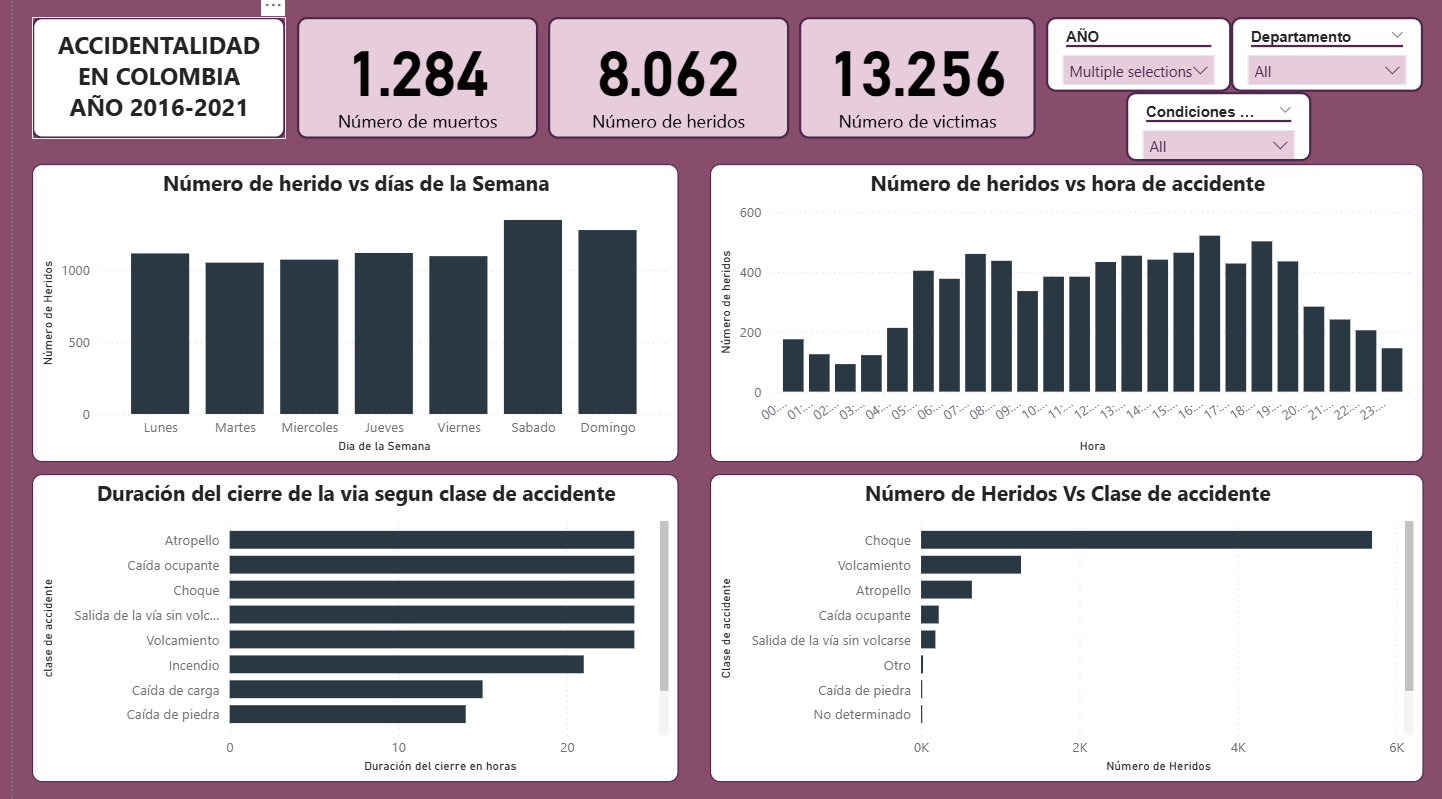

The dashboard page shown, as its layout file describes it:
{"tool":"powerbi","page":{"name":"Dashboard 1","canvas":[1280,720],"ordinal":0},"visuals":[{"type":"card","title":"Muertes Totales","fields":{"Values":["Sum(dataset_accidentes_limpio.n_muertos)"]},"box":[254.3,18.8,215.8,109.3],"z":0},{"type":"card","title":"Muertes Totales","fields":{"Values":["Sum(dataset_accidentes_limpio.n_heridos)"]},"box":[479.1,18.8,215.8,109.3],"z":1000},{"type":"card","title":"Muertes Totales","fields":{"Values":["Sum(dataset_accidentes_limpio.n_victimas)"]},"box":[703.9,18.8,212.2,109.3],"z":2000},{"type":"slicer","fields":{"Values":["dataset_accidentes_limpio.territorial"]},"box":[1090.7,18.8,171.9,67.2],"z":3000},{"type":"slicer","fields":{"Values":["dataset_accidentes_limpio.fecha_acc.Variation.Date Hierarchy.Year"]},"box":[925.1,18.8,165.7,67.2],"z":4000},{"type":"clusteredColumnChart","title":"Número de herido vs días de la Semana","fields":{"Y":["Sum(dataset_accidentes_limpio.n_heridos)"],"Category":["dataset_accidentes_limpio.dia_semana_acc"]},"box":[17,150.4,578.5,266.9],"z":5000},{"type":"textbox","title":"bffgfgfg","box":[17,18.8,227.5,109.3],"z":6000},{"type":"clusteredColumnChart","title":"Número de heridos vs hora de accidente","fields":{"Y":["Sum(dataset_accidentes_limpio.n_heridos)"],"Category":["dataset_accidentes_limpio.HoraACC"]},"box":[624.2,150.4,638.5,266.9],"z":7000},{"type":"slicer","fields":{"Values":["dataset_accidentes_limpio.condic_meteor"]},"box":[996.7,86,165.7,61.8],"z":8000},{"type":"clusteredBarChart","title":"Duración del cierre de la via segun clase de accidente","fields":{"Category":["dataset_accidentes_limpio.clase_accidente"],"Y":["Count(dataset_accidentes_limpio.duracion_cierre_horas)"]},"box":[17,428.1,578.5,275.8],"z":9000},{"type":"barChart","title":"Número de Heridos Vs Clase de accidente","fields":{"Y":["Sum(dataset_accidentes_limpio.n_heridos)"],"Category":["dataset_accidentes_limpio.clase_accidente"]},"box":[624.2,428.1,638.5,275.8],"z":10000}]}

Visuals, with their boxes in screenshot pixels (x1, y1, x2, y2), scaled from the page's 1280x720 canvas onto the 1442x799 screenshot:
"Muertes Totales" card: bbox=(286, 21, 530, 142)
"Muertes Totales" card: bbox=(540, 21, 783, 142)
"Muertes Totales" card: bbox=(793, 21, 1032, 142)
slicer - dataset_accidentes_limpio.territorial: bbox=(1229, 21, 1422, 95)
slicer - dataset_accidentes_limpio.fecha_acc.Variation.Date Hierarchy.Year: bbox=(1042, 21, 1229, 95)
"Número de herido vs días de la Semana" clusteredColumnChart: bbox=(19, 167, 671, 463)
"bffgfgfg" textbox: bbox=(19, 21, 275, 142)
"Número de heridos vs hora de accidente" clusteredColumnChart: bbox=(703, 167, 1423, 463)
slicer - dataset_accidentes_limpio.condic_meteor: bbox=(1123, 95, 1310, 164)
"Duración del cierre de la via segun clase de accidente" clusteredBarChart: bbox=(19, 475, 671, 781)
"Número de Heridos Vs Clase de accidente" barChart: bbox=(703, 475, 1423, 781)
